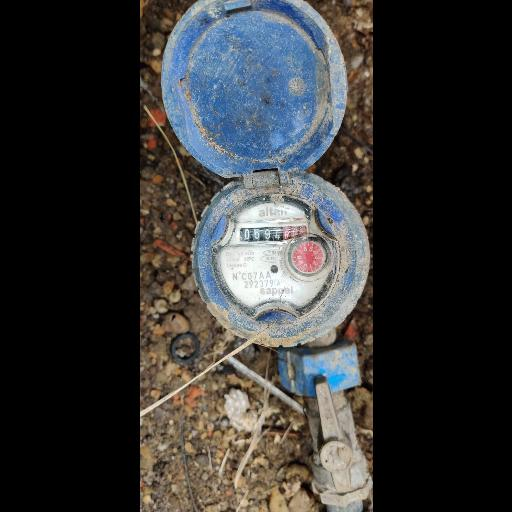0: (242, 228, 251, 242), (290, 225, 297, 239)
4: (272, 227, 281, 241)
5: (251, 227, 262, 241)
6: (282, 226, 290, 240)
9: (262, 227, 271, 241)
border_water_meter_number: (237, 222, 309, 244)
